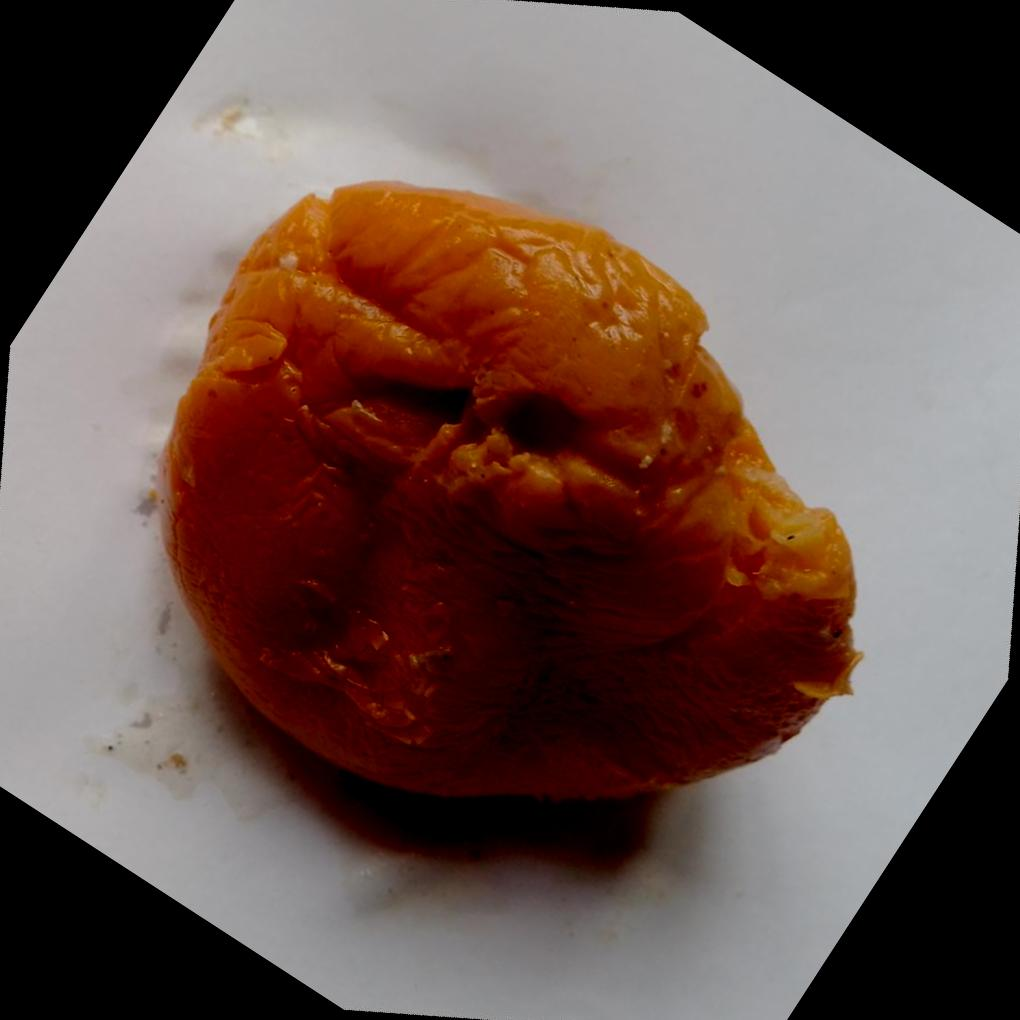FreshOrange: (158, 177, 864, 800)
